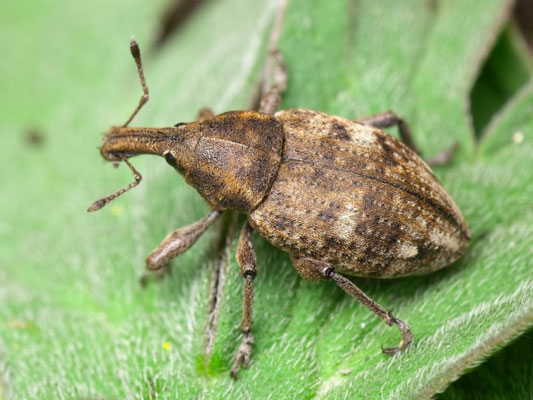dolgonosik: (93, 34, 477, 378)
